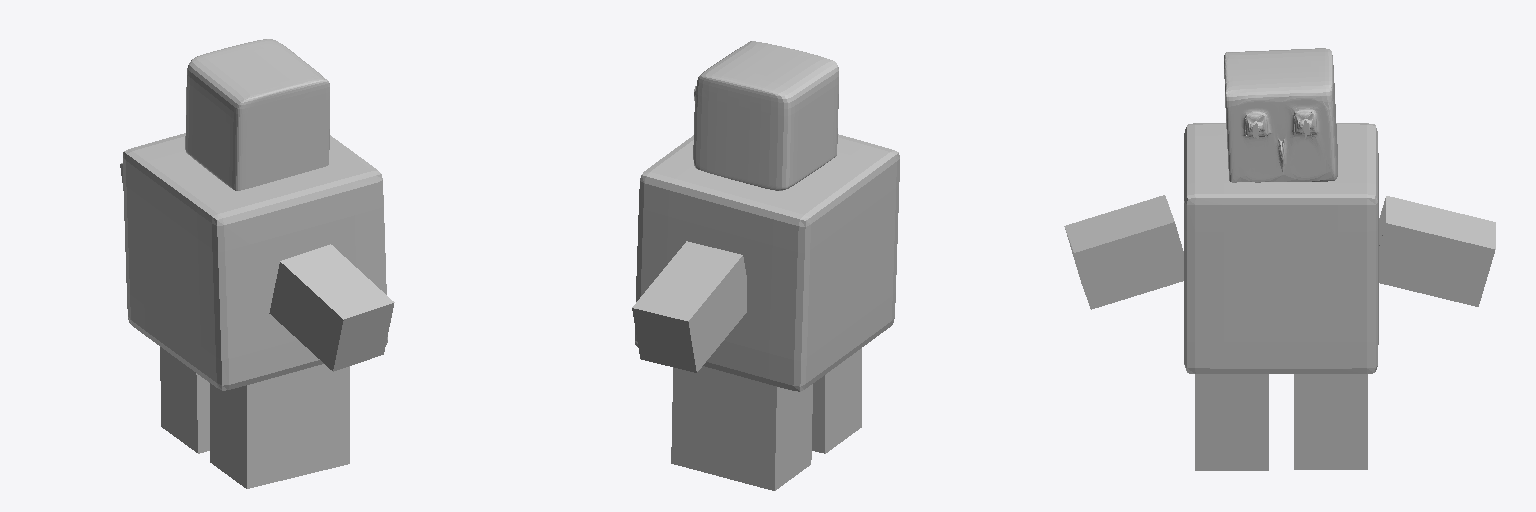
The picture shows the model from 3 angles: view 1: azimuth 30°, elevation 25°; view 2: azimuth 150°, elevation 25°; view 3: azimuth 270°, elevation 25°; orthographic projection.
Visible parts, largest first — view 1: Cube_Cube.001, Cube.001_Cube.002, Cube.002_Cube.003, Cube.005_Cube.007, Cube.003_Cube.004; view 2: Cube_Cube.001, Cube.001_Cube.002, Cube.003_Cube.004, Cube.004_Cube.005, Cube.002_Cube.003; view 3: Cube_Cube.001, Cube.001_Cube.002, Cube.004_Cube.005, Cube.005_Cube.007, Cube.002_Cube.003, Cube.003_Cube.004.
Boxes of the visible parts, x1,y1,x2,y2 form: Cube_Cube.001: [123, 133, 387, 390]; Cube.001_Cube.002: [185, 39, 329, 190]; Cube.002_Cube.003: [210, 364, 349, 488]; Cube.005_Cube.007: [269, 244, 394, 371]; Cube.003_Cube.004: [160, 347, 209, 453]; Cube_Cube.001: [635, 134, 899, 391]; Cube.001_Cube.002: [693, 41, 838, 190]; Cube.003_Cube.004: [671, 366, 812, 490]; Cube.004_Cube.005: [632, 241, 746, 372]; Cube.002_Cube.003: [812, 348, 861, 453]; Cube_Cube.001: [1184, 123, 1378, 373]; Cube.001_Cube.002: [1224, 48, 1337, 182]; Cube.004_Cube.005: [1379, 196, 1495, 306]; Cube.005_Cube.007: [1064, 195, 1183, 309]; Cube.002_Cube.003: [1195, 374, 1268, 470]; Cube.003_Cube.004: [1294, 374, 1367, 469].
Bounding box in the file's own units: 1.5 × 3.15 × 3.22.